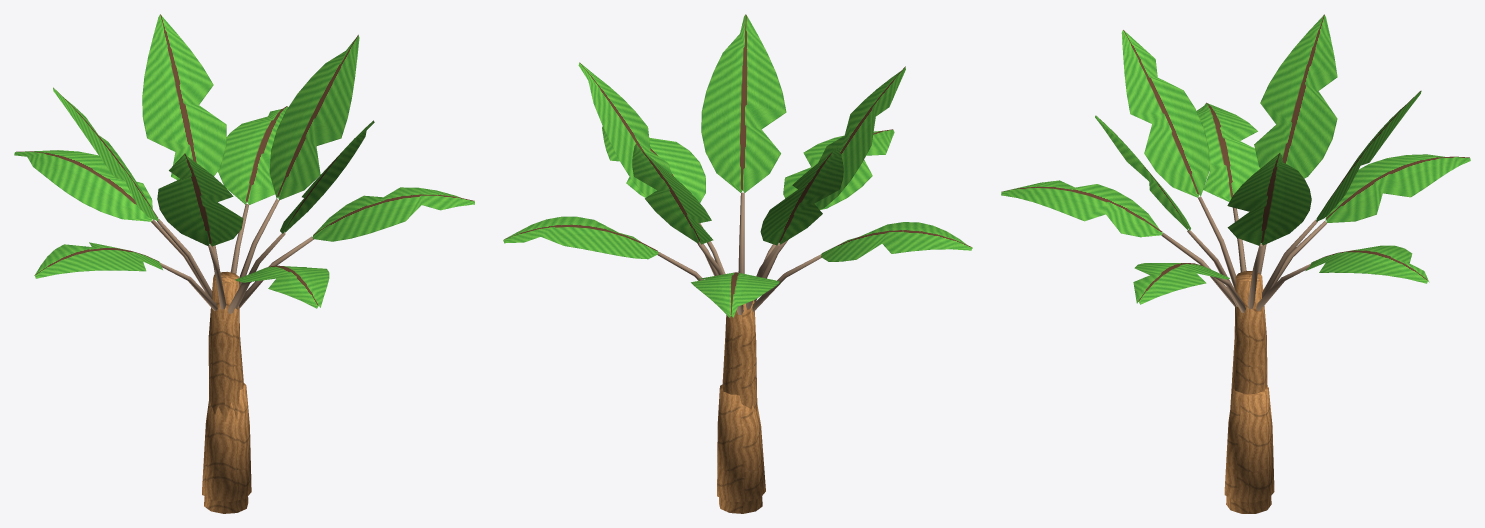
The model's file is tree_banana.glb.
3 renders of one model, left to right at view 1: azimuth 30°, elevation 25°; view 2: azimuth 150°, elevation 25°; view 3: azimuth 270°, elevation 25°, orthographic.
Visible parts, largest first — view 1: Batch_BananaLeaves, Batch_BananaTrunk, Batch_BananaStem; view 2: Batch_BananaLeaves, Batch_BananaTrunk, Batch_BananaStem; view 3: Batch_BananaLeaves, Batch_BananaTrunk, Batch_BananaStem.
Part boxes in pixels (box(x1,y1,x2,y2)): Batch_BananaLeaves: box(14, 14, 474, 308); Batch_BananaTrunk: box(202, 271, 251, 513); Batch_BananaStem: box(151, 199, 313, 313); Batch_BananaLeaves: box(503, 14, 972, 317); Batch_BananaTrunk: box(717, 300, 765, 513); Batch_BananaStem: box(658, 192, 821, 314); Batch_BananaLeaves: box(1001, 14, 1470, 304); Batch_BananaTrunk: box(1224, 271, 1274, 513); Batch_BananaStem: box(1161, 196, 1326, 312).
Size of the model in its own units: 4.97 by 4.94 by 4.95.
3 materials, 2 textured.
